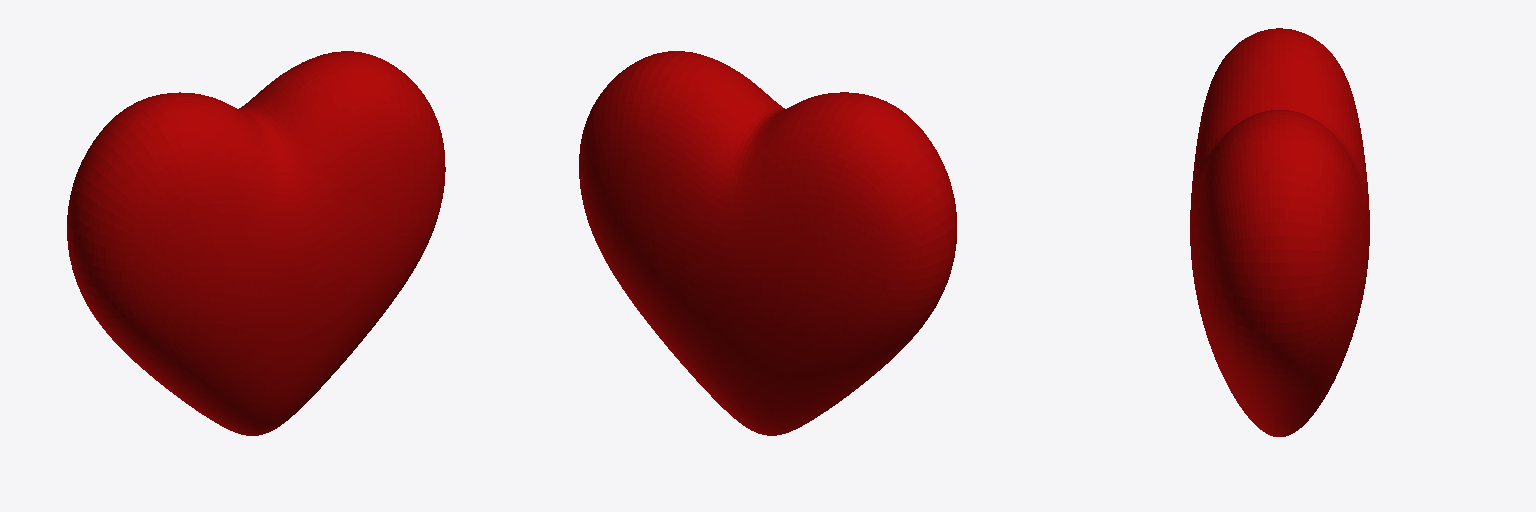
The model's file is Heart.obj.
3 views of the same model, side by side, from view 1: azimuth 30°, elevation 25°; view 2: azimuth 150°, elevation 25°; view 3: azimuth 270°, elevation 25° (orthographic).
Parts seen in each view (by area): view 1: 12190_Heart_v1_L3; view 2: 12190_Heart_v1_L3; view 3: 12190_Heart_v1_L3.
Part boxes in pixels (bbox=[...]): 12190_Heart_v1_L3: bbox=[67, 51, 445, 435]; 12190_Heart_v1_L3: bbox=[579, 51, 956, 435]; 12190_Heart_v1_L3: bbox=[1190, 28, 1369, 436].
Size of the model in its own units: 0.425 by 0.3983 by 0.1828.